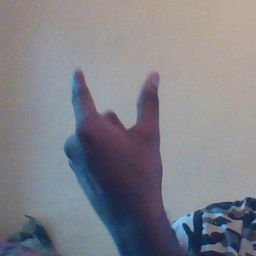U: (47, 58, 175, 214)
